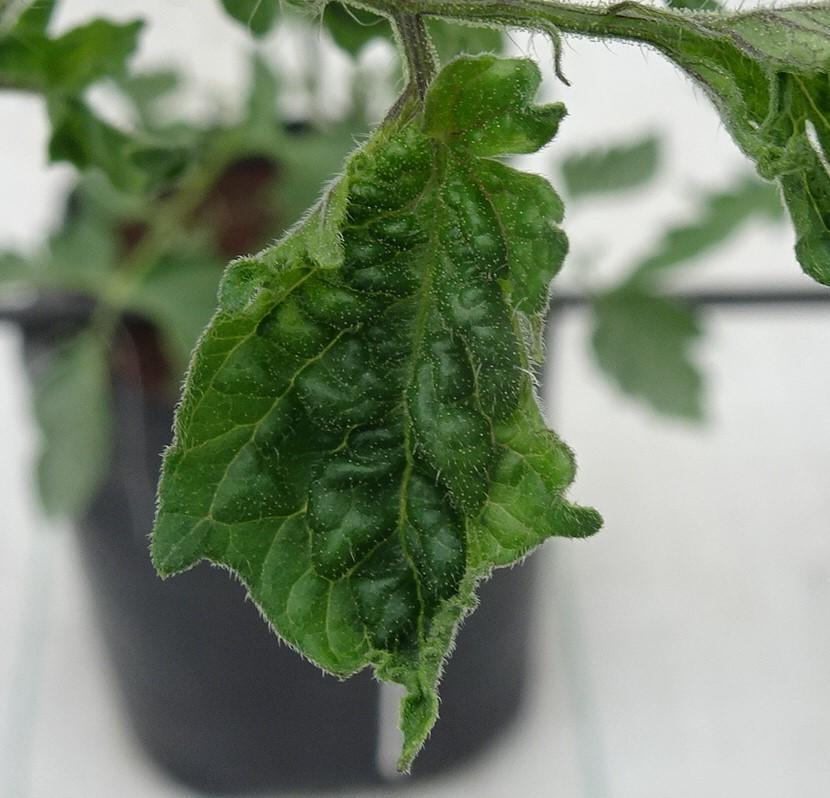Hoja rugoso: (146, 53, 604, 780)
